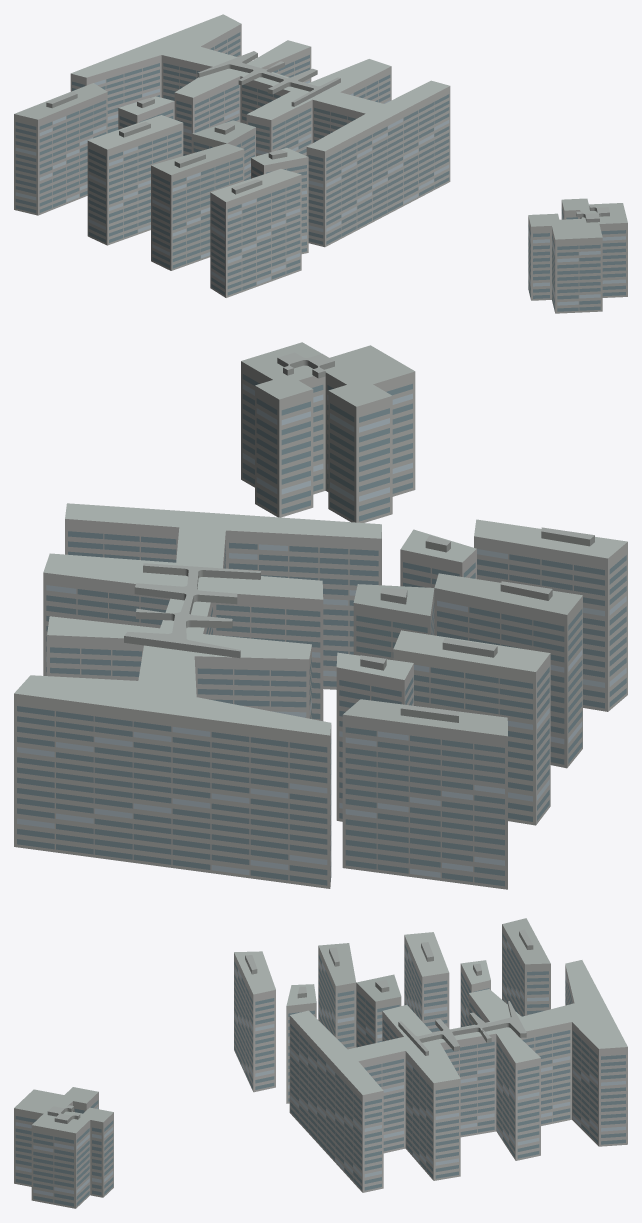
File: apt-a10023132.glb
The picture shows the model from 3 angles, top to bottom: view 1: azimuth 30°, elevation 25°; view 2: azimuth 150°, elevation 25°; view 3: azimuth 270°, elevation 25°; orthographic projection. The views are drawn at different scales.
Visible parts, largest first — view 1: apt-a10023132; view 2: apt-a10023132; view 3: apt-a10023132.
Boxes of the visible parts, bbox=[...] form: apt-a10023132: bbox=[14, 14, 627, 313]; apt-a10023132: bbox=[14, 342, 627, 889]; apt-a10023132: bbox=[14, 918, 627, 1208].
Bounding box in the file's own units: 194 × 47.81 × 260.
